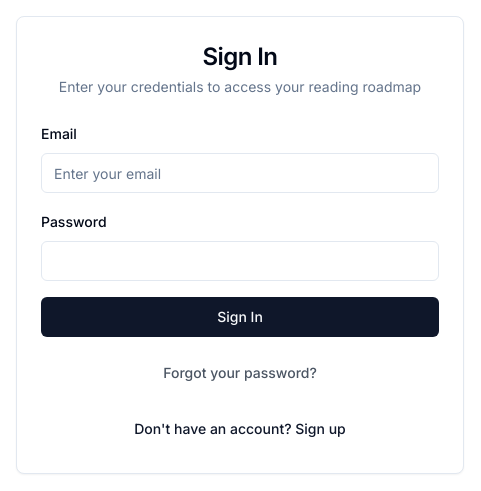
Test: AuthPage › switches back to login form when clicked
Click the button "Don't have an account? Sign up". click: coordinates (240, 429)
box: left=118, top=409, right=362, bottom=449
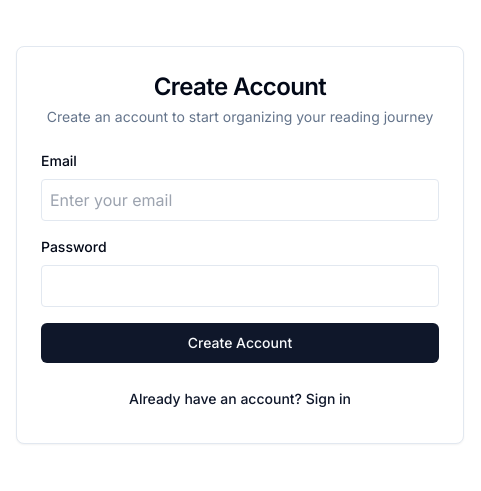
Click the button "Already have an account? Sign in". click: coordinates (240, 399)
box: left=113, top=379, right=367, bottom=419
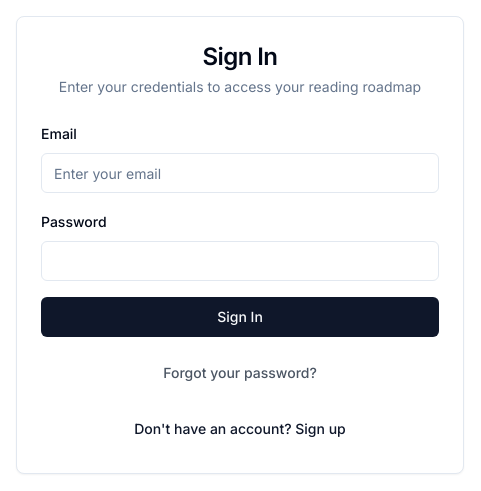
Check: the heading "Sign In" is shown, box left=203, top=42, right=277, bottom=71
Check: the button "Sign In" is shown, box left=41, top=297, right=439, bottom=337
